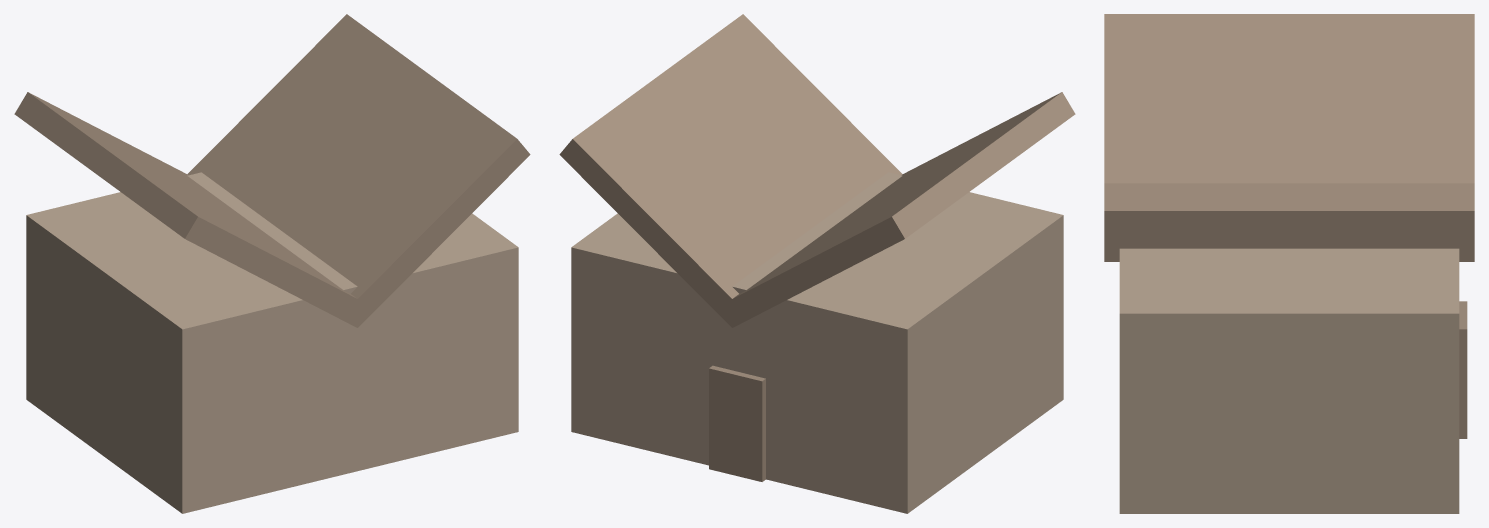
The picture shows the model from 3 angles, left to right: view 1: azimuth 30°, elevation 25°; view 2: azimuth 150°, elevation 25°; view 3: azimuth 270°, elevation 25°; orthographic projection. The views are drawn at different scales.
Parts seen in each view (by area): view 1: stick-walls, roof-right, roof-left; view 2: stick-walls, roof-right, roof-left, door; view 3: stick-walls, roof-left, roof-right, door.
Part boxes in pixels (<box>): stick-walls: <box>26,172,518,513</box>; roof-right: <box>187,14,530,327</box>; roof-left: <box>14,92,370,327</box>; stick-walls: <box>571,172,1063,513</box>; roof-right: <box>559,14,902,327</box>; roof-left: <box>720,92,1075,327</box>; door: <box>709,365,765,481</box>; stick-walls: <box>1119,248,1459,513</box>; roof-left: <box>1104,14,1474,183</box>; roof-right: <box>1104,183,1474,261</box>; door: <box>1459,301,1467,438</box>.
Size of the model in its own units: 8.43 by 7 by 7.2.
